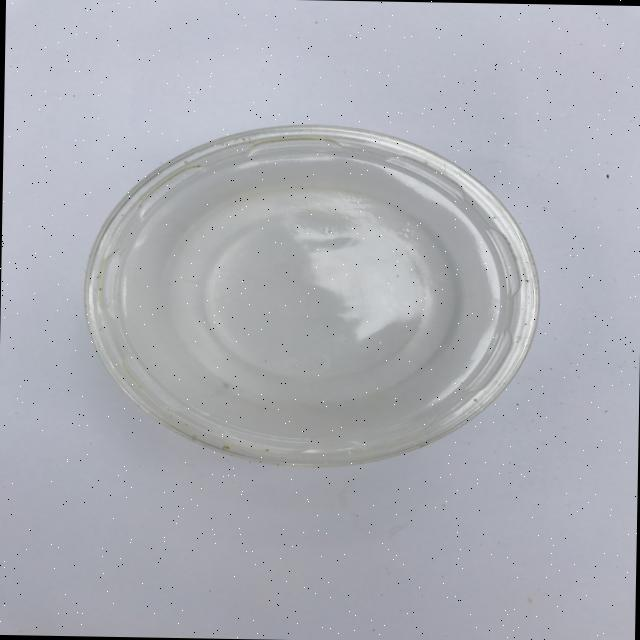plastic: (80, 120, 542, 470)
